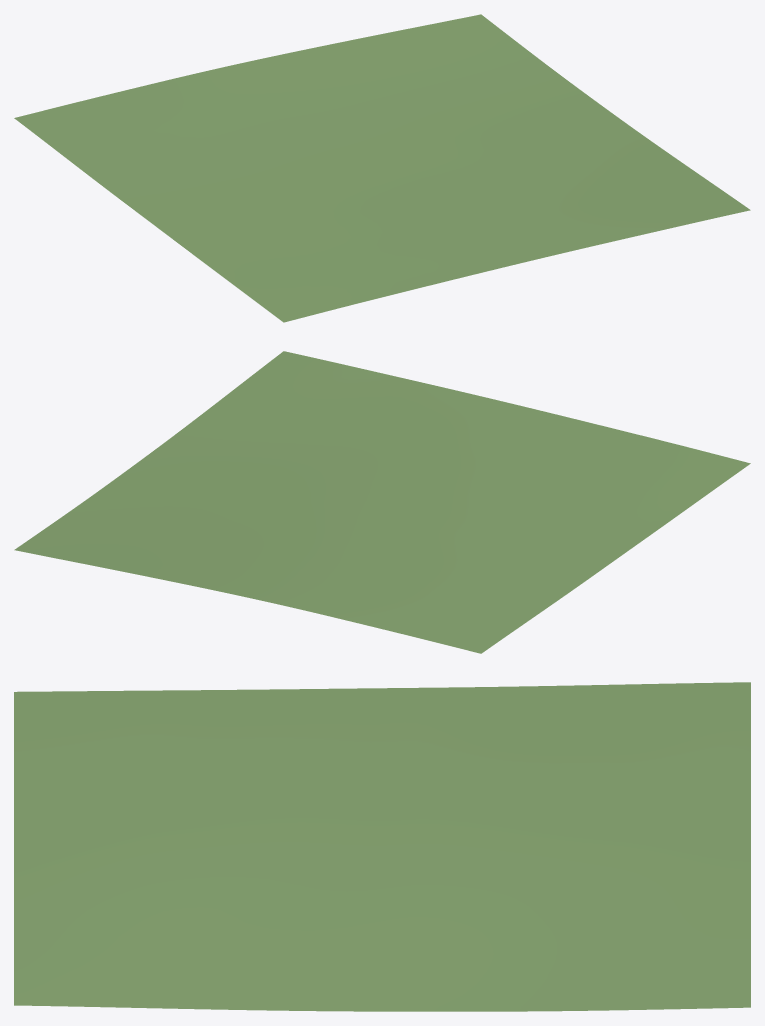
Rendered from floor_001_chunk_x+01_z+13_lod0.glb.
3 views of the same model, one above another, from view 1: azimuth 30°, elevation 25°; view 2: azimuth 150°, elevation 25°; view 3: azimuth 270°, elevation 25° (orthographic). The views are drawn at different scales.
Parts seen in each view (by area): view 1: floor_001_chunk_x+01_z+13_lod0; view 2: floor_001_chunk_x+01_z+13_lod0; view 3: floor_001_chunk_x+01_z+13_lod0.
Part boxes in pixels (x1,y1,x2,y2): floor_001_chunk_x+01_z+13_lod0: [14, 14, 750, 322]; floor_001_chunk_x+01_z+13_lod0: [14, 351, 750, 653]; floor_001_chunk_x+01_z+13_lod0: [14, 682, 750, 1011].
Bounding box in the file's own units: 256 × 7.22 × 256.
